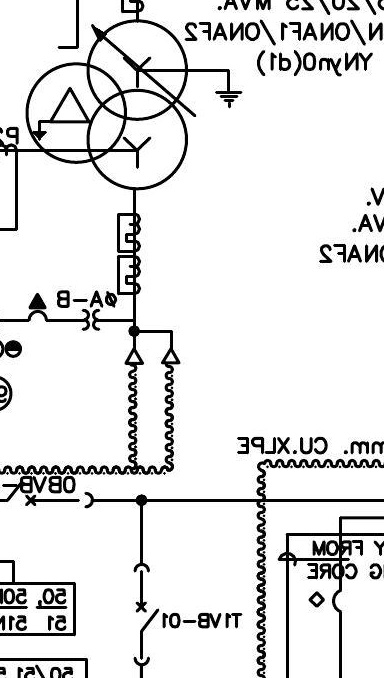11522_tx_ynyn0d1: (24, 18, 189, 192)
22_breaker: (133, 563, 160, 667)
terminator_double: (124, 329, 181, 365)
